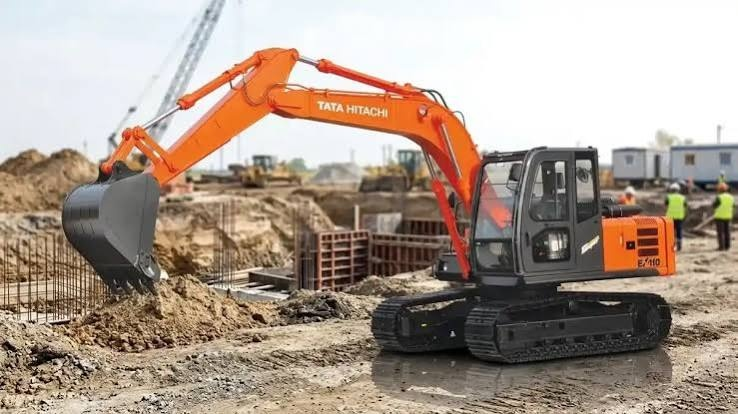excavator: (50, 38, 685, 373)
